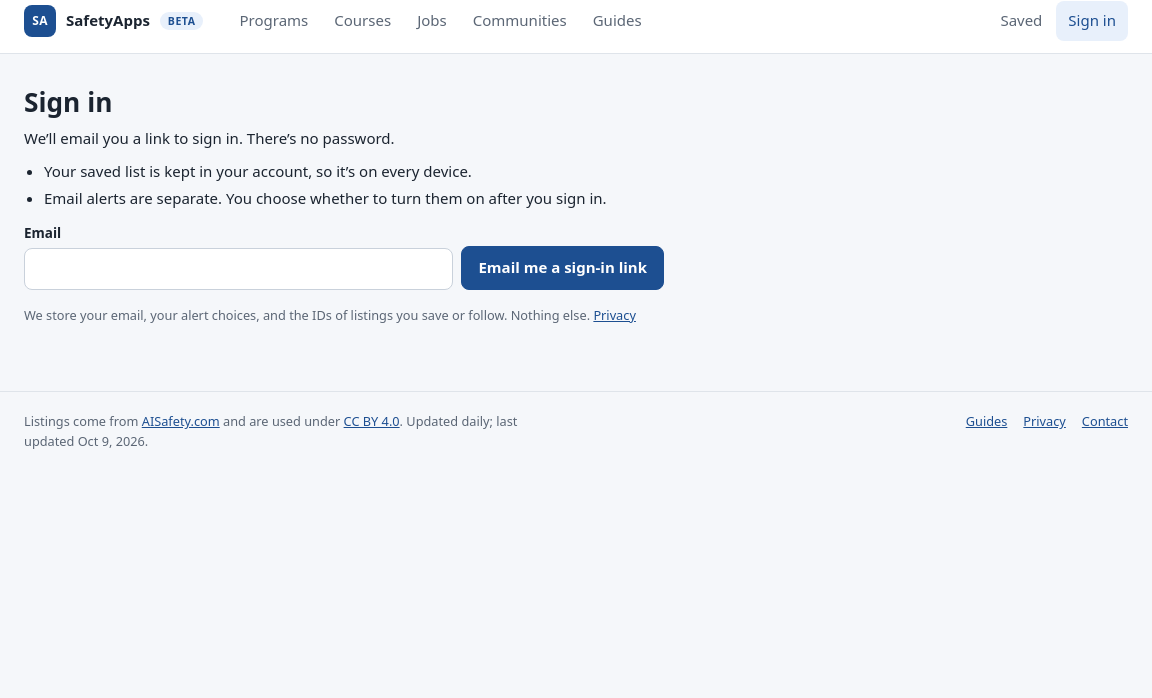
Test case: saving and accounts › saves alert preferences and explains where focus does not apply
Type "ada@example.com" into the field labelled "Email".
click(239, 269); type("ada@example.com")  # box 24,248 -> 454,290
Click the button "Email me a sign-in link".
click(563, 268)  # box 462,246 -> 664,290
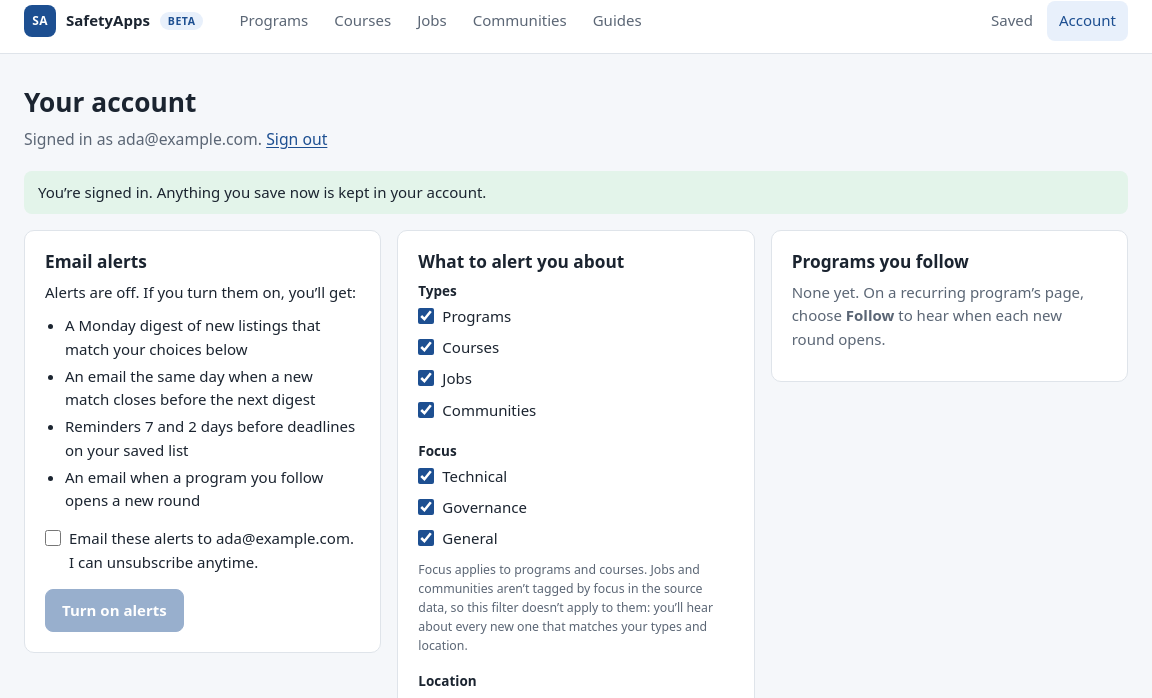
Result: the heading "What to alert you about" is shown at 418,250 -> 624,274
Result: the text "Jobs and communities aren’t tagged by focus in the source data" is shown at 418,561 -> 713,654
Click the checkbox labelled "Communities".
click(426, 410)  # box 418,402 -> 434,418
(page scrolled)
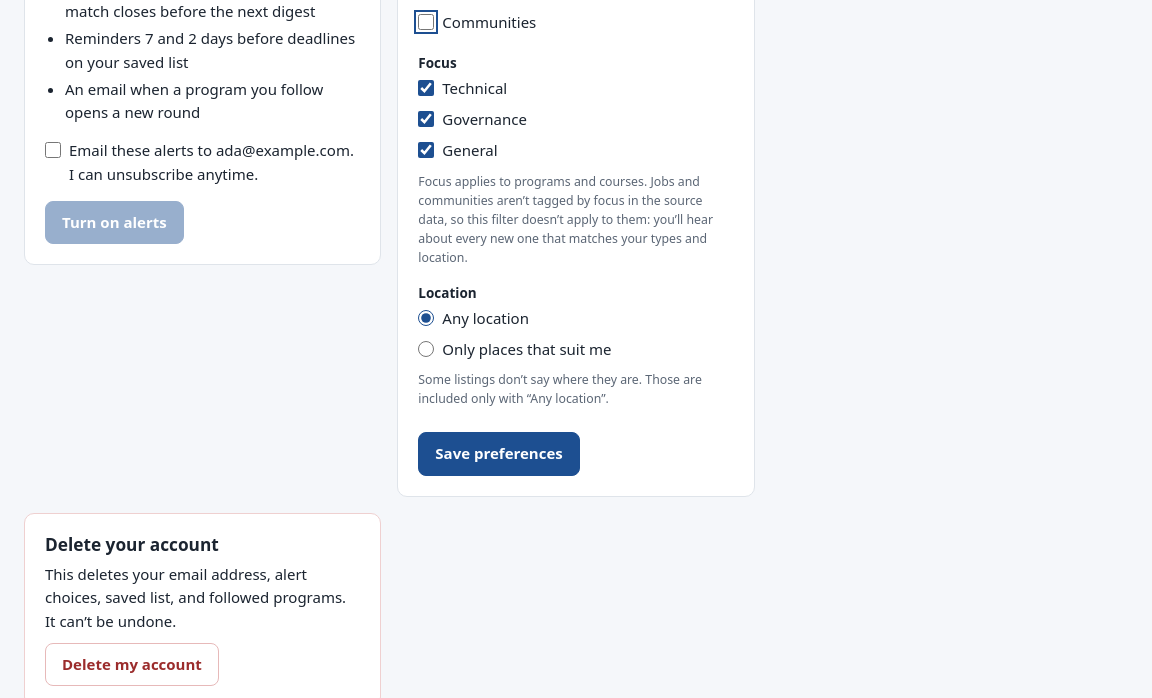
Click the radio button labelled "Only places that suit me".
click(426, 349)  # box 418,341 -> 434,357
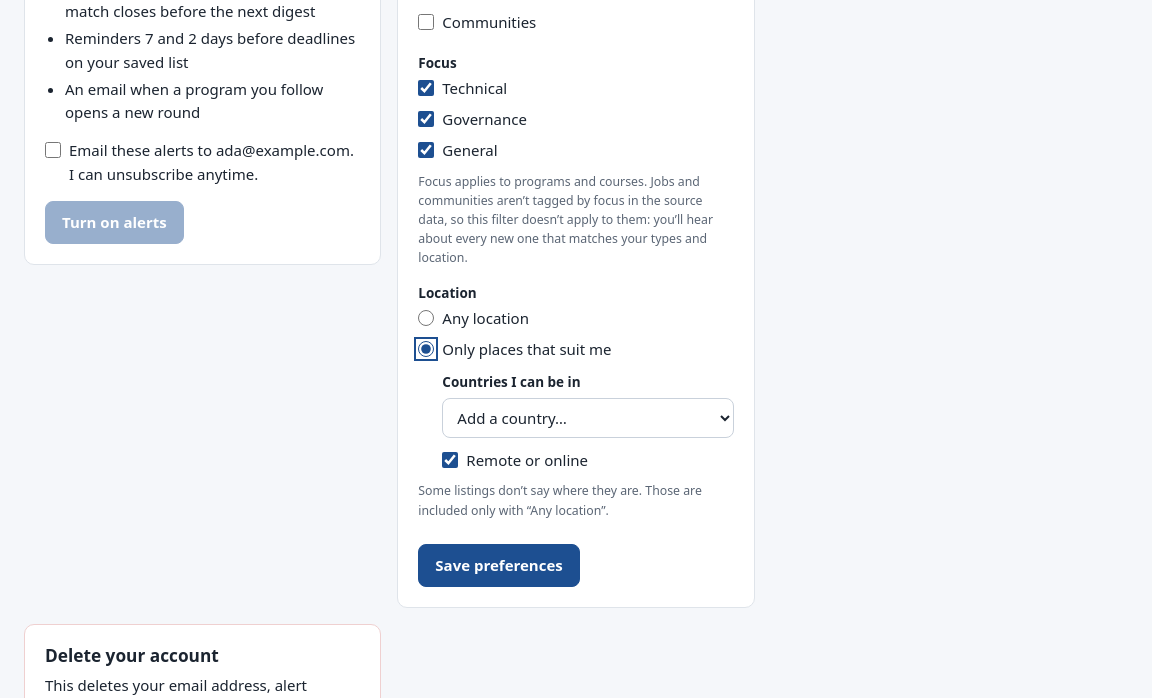
Click the checkbox labelled "Remote or online".
click(450, 460)  # box 442,452 -> 458,468
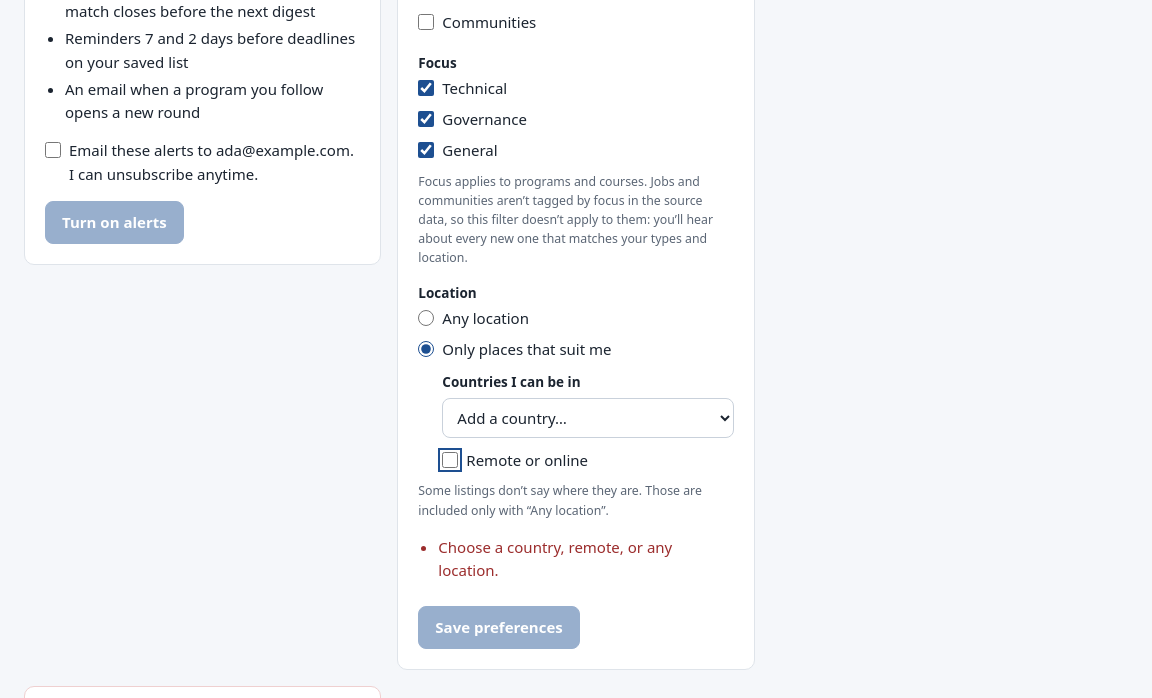
Result: the button "Save preferences" is disabled at 418,606 -> 580,649
Result: the list item "Choose a country, remote, or any location." is shown at 438,536 -> 672,580
Select "Germany" in the dropdown labelled "Countries I can be in" at (588,418), box 442,398 -> 734,438
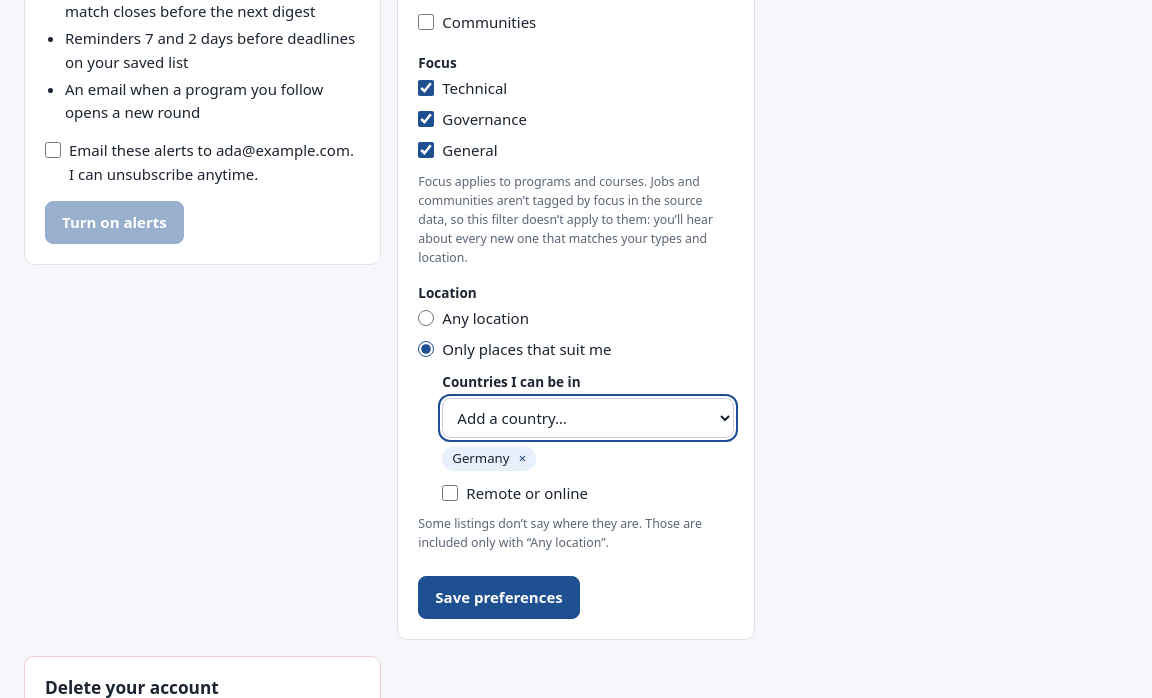
Click the button "Save preferences".
click(499, 598)  # box 418,576 -> 580,619
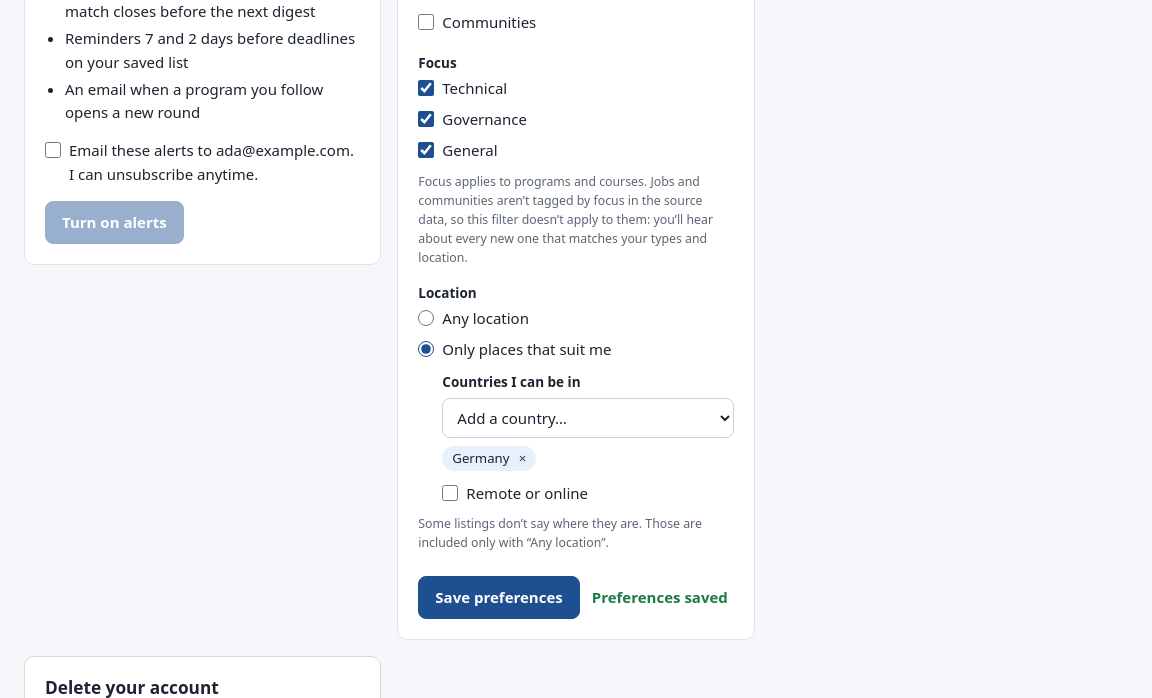
Result: the text "Preferences saved" is shown at 592,586 -> 728,609
